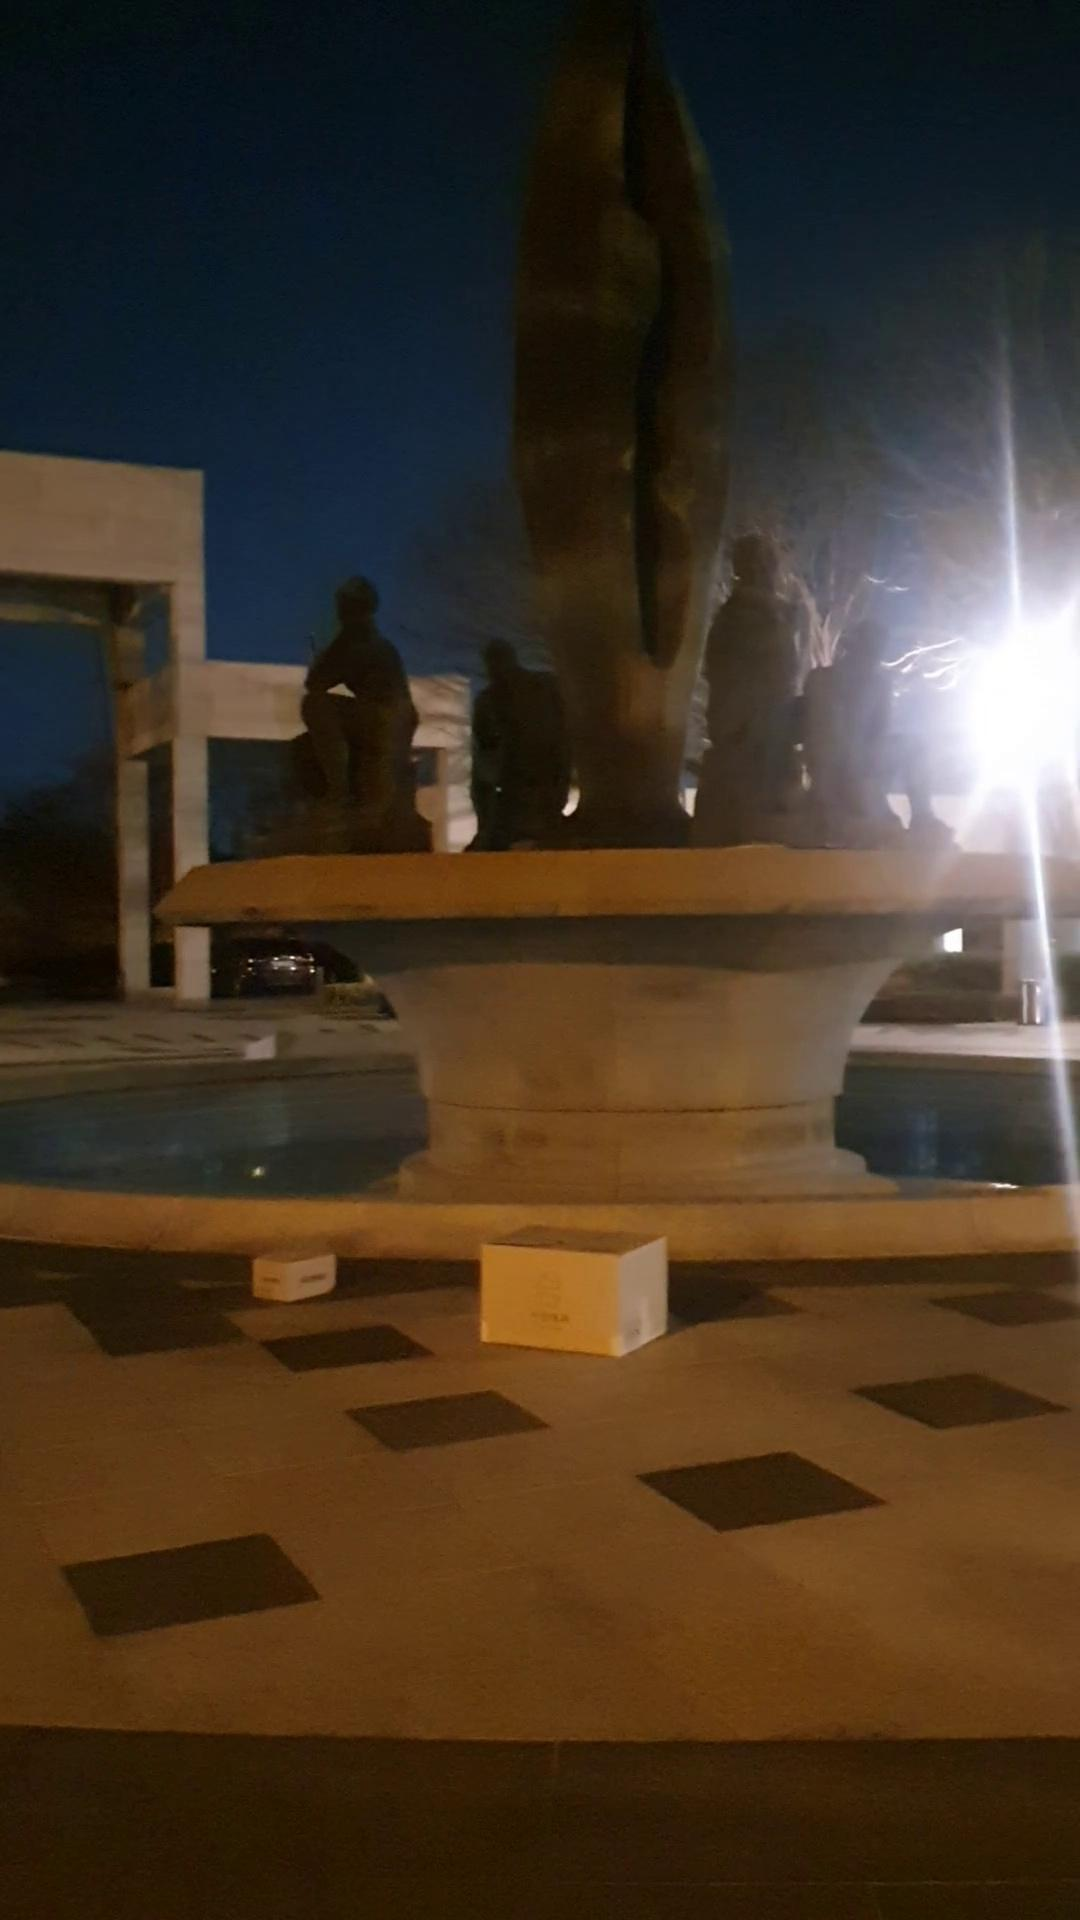Box: (481, 1222, 670, 1364), (247, 1238, 343, 1309)
